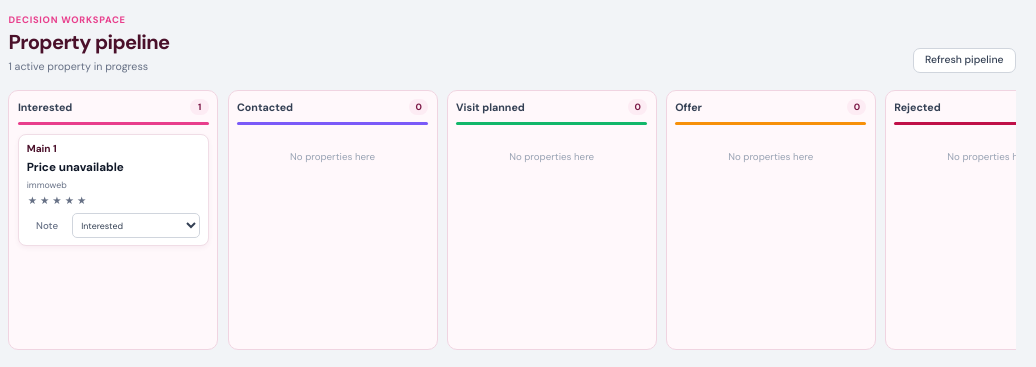
Test: Pipeline › saves an inline note and shows it on the pipeline card
Click the button with aria-label "Add note".
click(47, 226)  # box left=27, top=214, right=68, bottom=237
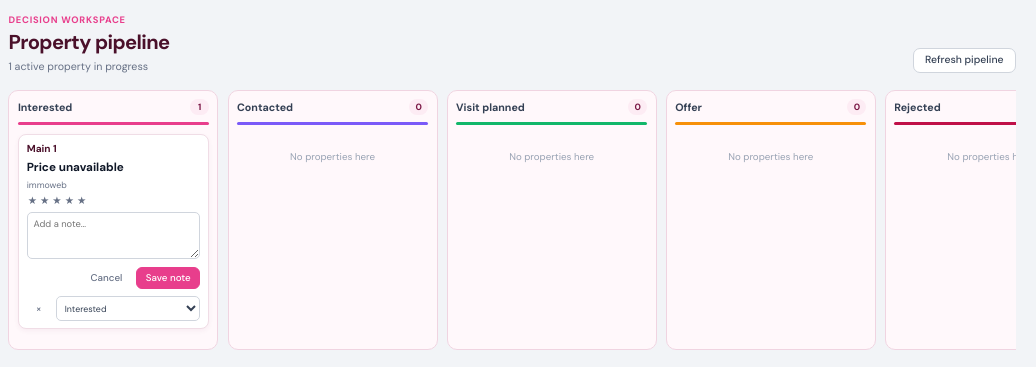
Type "Ask about the roof" into the text box with placeholder "Add a note…".
click(113, 236); type("Ask about the roof")  # box left=27, top=212, right=200, bottom=259
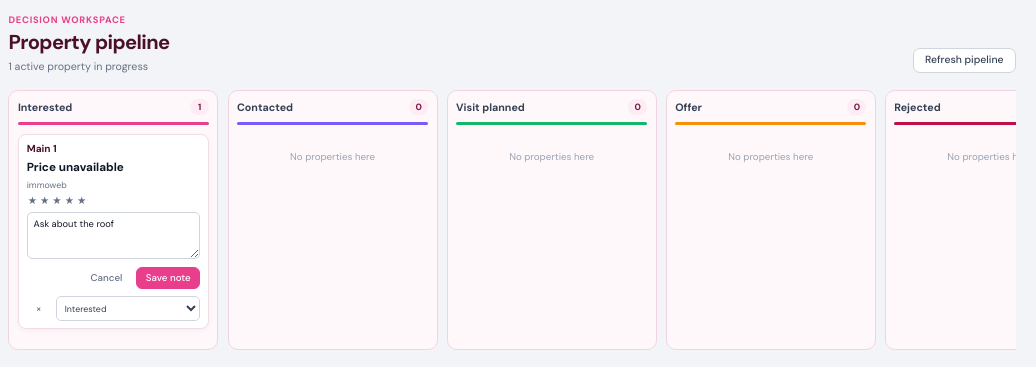
Click the button "Save note".
click(168, 278)  # box left=136, top=267, right=200, bottom=289
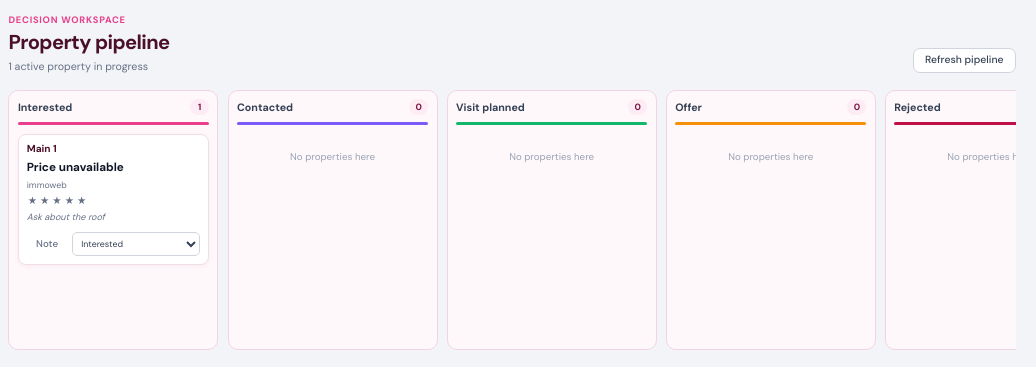
Expected: the text "Ask about the roof" is shown, left=27, top=211, right=105, bottom=223
